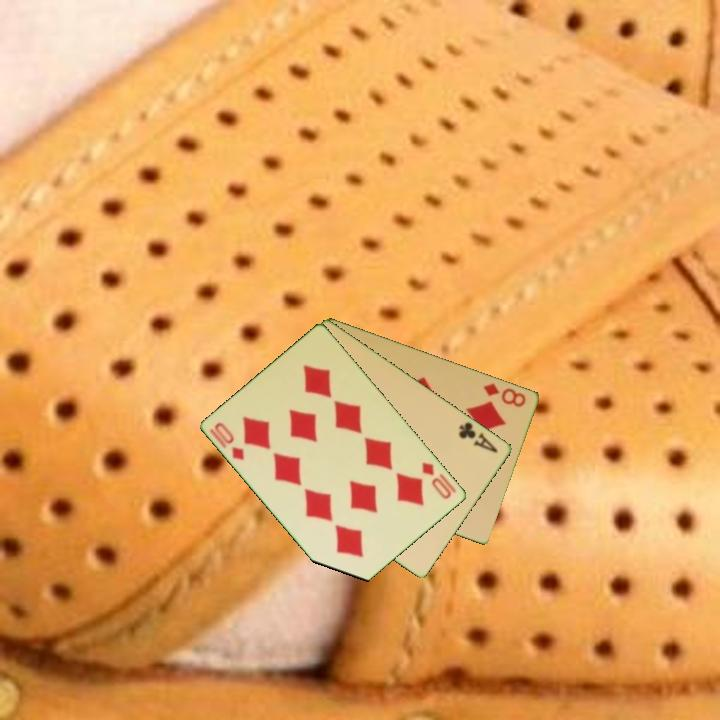10d: (419, 458, 460, 502), (211, 419, 248, 464)
8d: (480, 379, 529, 410)
Ac: (455, 418, 502, 456)
